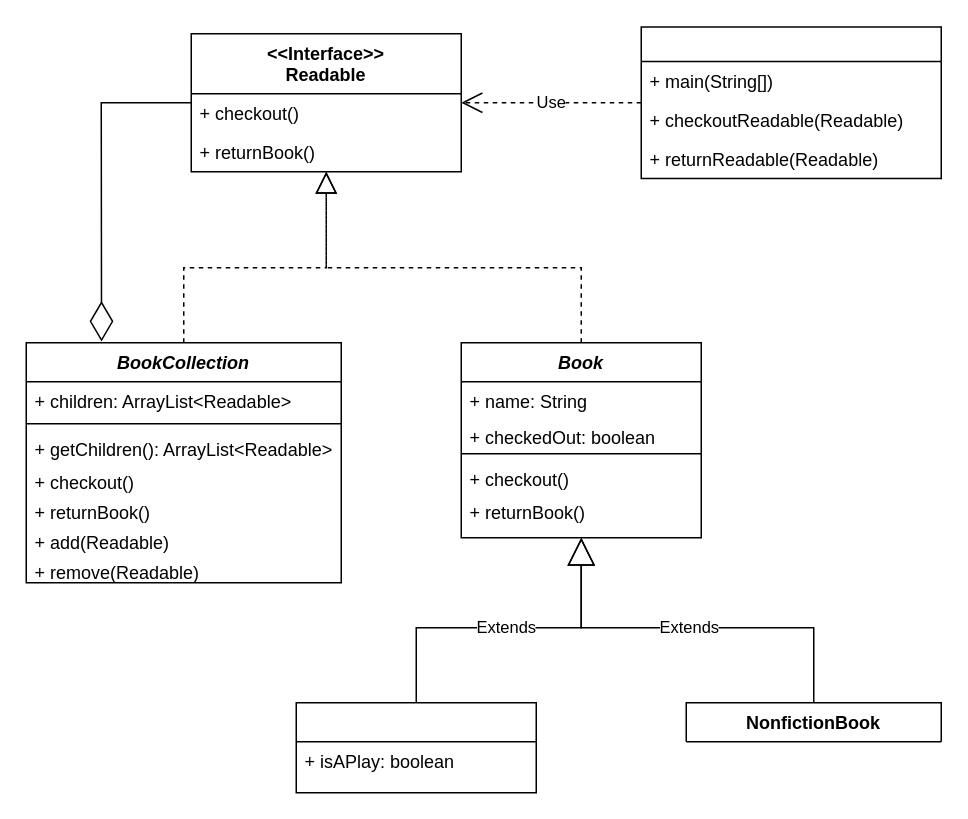
This 968x819 diagram has some shape labels left out. Here are the shapes that lost their labels. From the top down, the box of each, then its label:
(640, 26, 941, 178): LibraryClient
(295, 701, 536, 793): FictionBook
